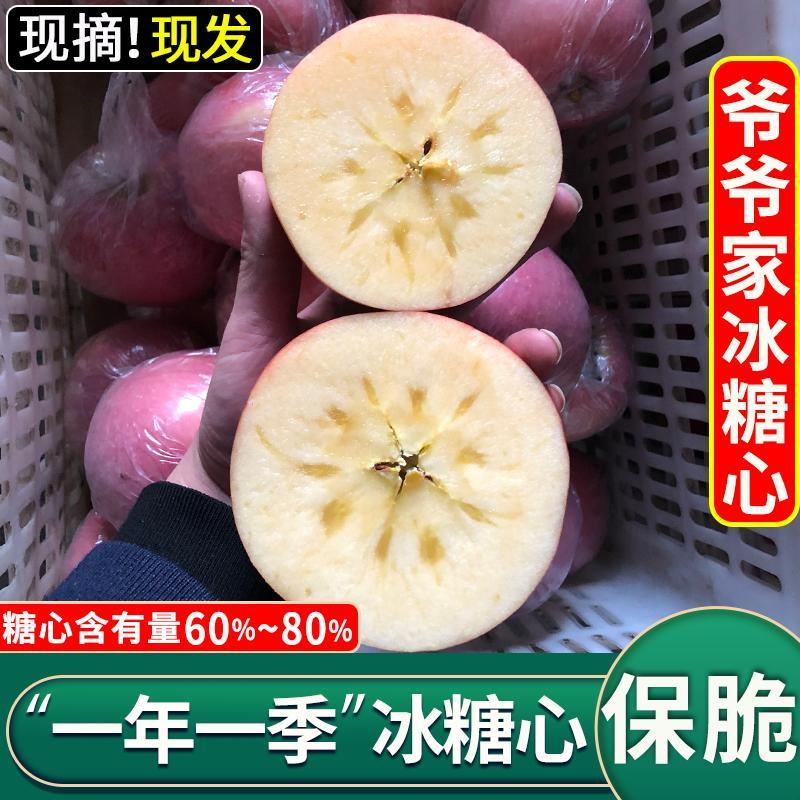apple: (228, 307, 569, 648), (270, 12, 565, 313)
